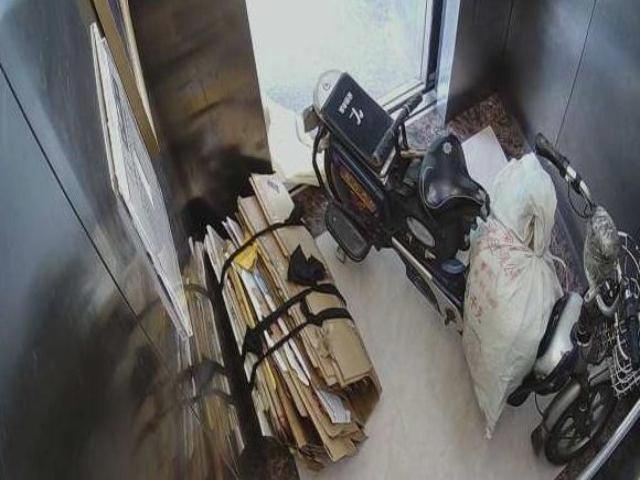bag: (205, 182, 391, 458)
emotor: (326, 92, 640, 439)
